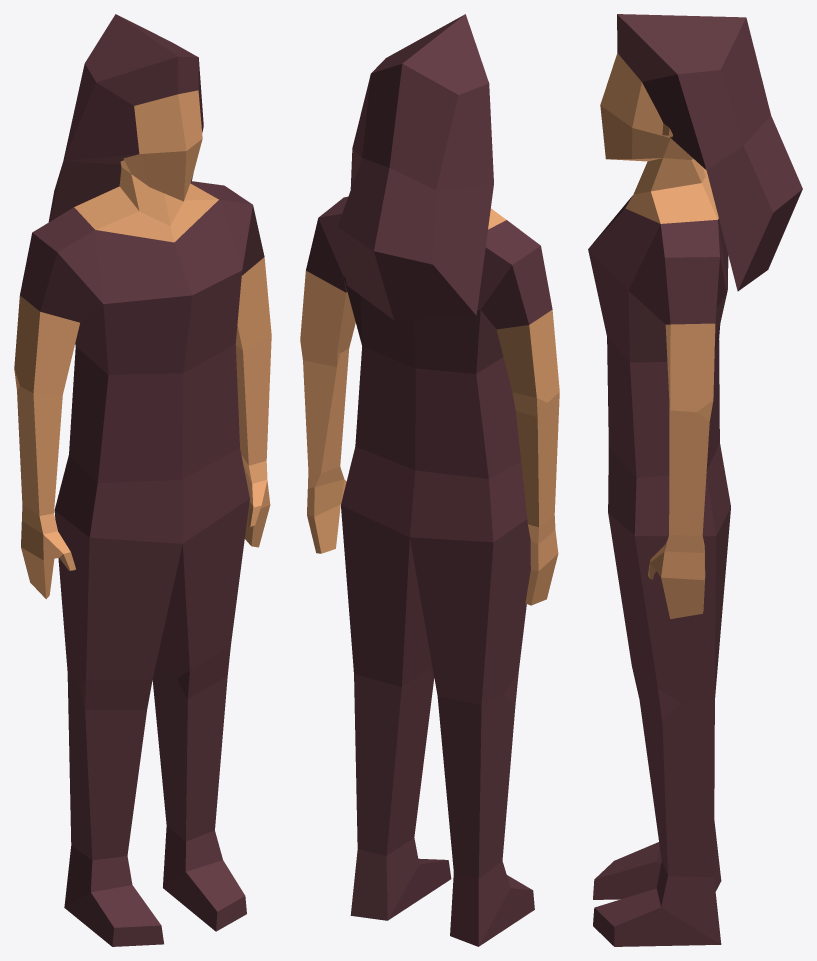
File: woman-casual-pants.fbx
3 views of the same model, side by side, from view 1: azimuth 30°, elevation 25°; view 2: azimuth 150°, elevation 25°; view 3: azimuth 270°, elevation 25° (orthographic). The views are drawn at different scales.
Parts seen in each view (by area): view 1: woman-casual-pants; view 2: woman-casual-pants; view 3: woman-casual-pants.
Part boxes in pixels (bbox=[...]): woman-casual-pants: bbox=[14, 14, 271, 946]; woman-casual-pants: bbox=[300, 14, 559, 946]; woman-casual-pants: bbox=[588, 14, 802, 946].
Bounding box in the file's own units: 0.5327 × 1.86 × 0.4019.
